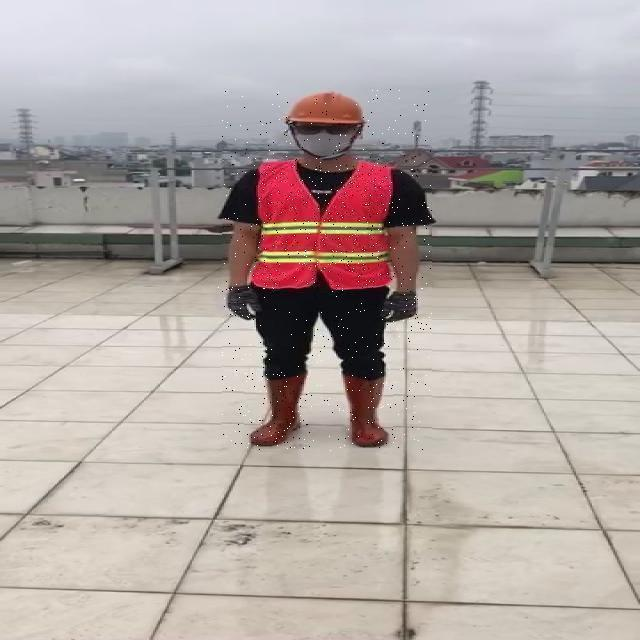gloves: (224, 282, 266, 323), (377, 290, 419, 324)
goggles: (291, 122, 360, 135)
helmet: (283, 90, 368, 126)
safety_vest: (254, 165, 395, 290)
